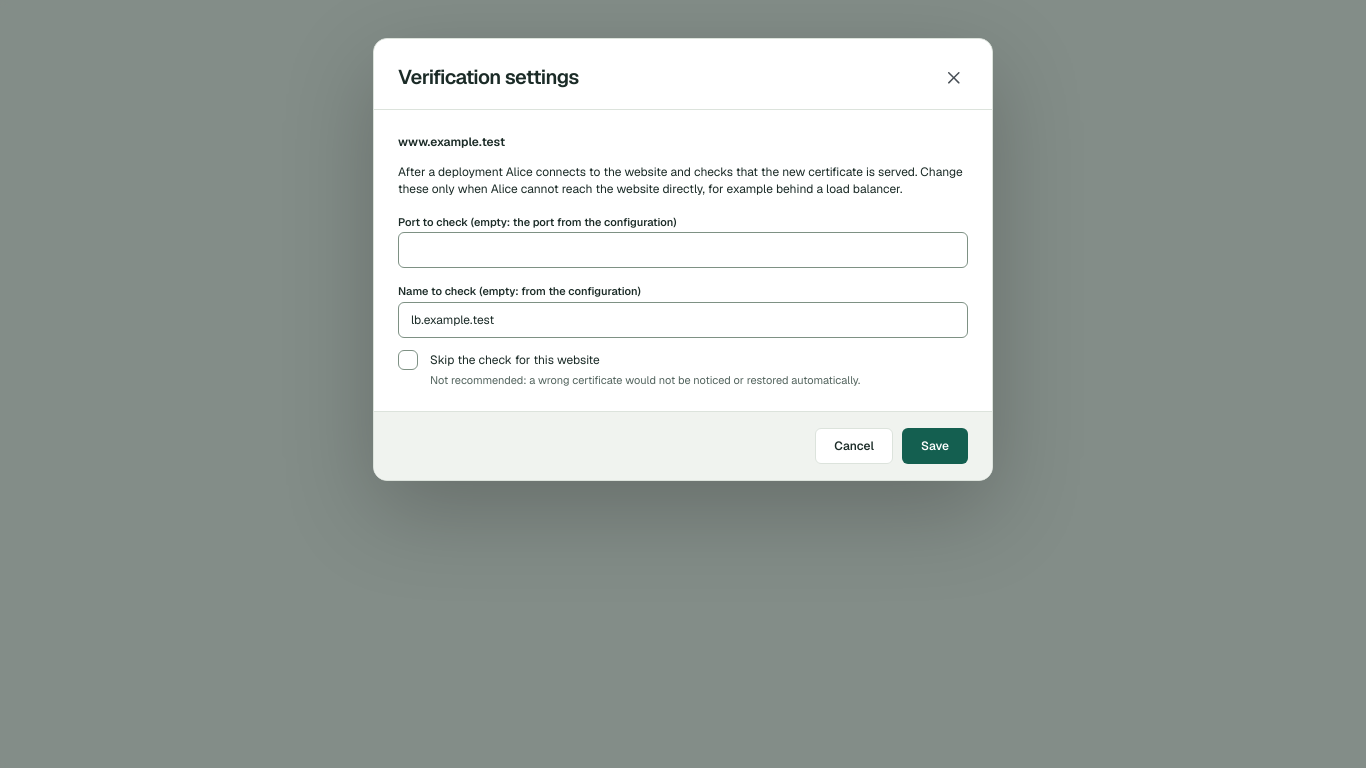
Scenario: LocationSettingsDialog › treats a name that differs from the stored one only in case as unchanged
The width and height of the screenshot is (1366, 768).
Replace the text in the field labelled "Name to check (empty: from the configuration)" with "LB.Example.test" at point(683, 320), box top-left (398, 302), bottom-right (968, 338)
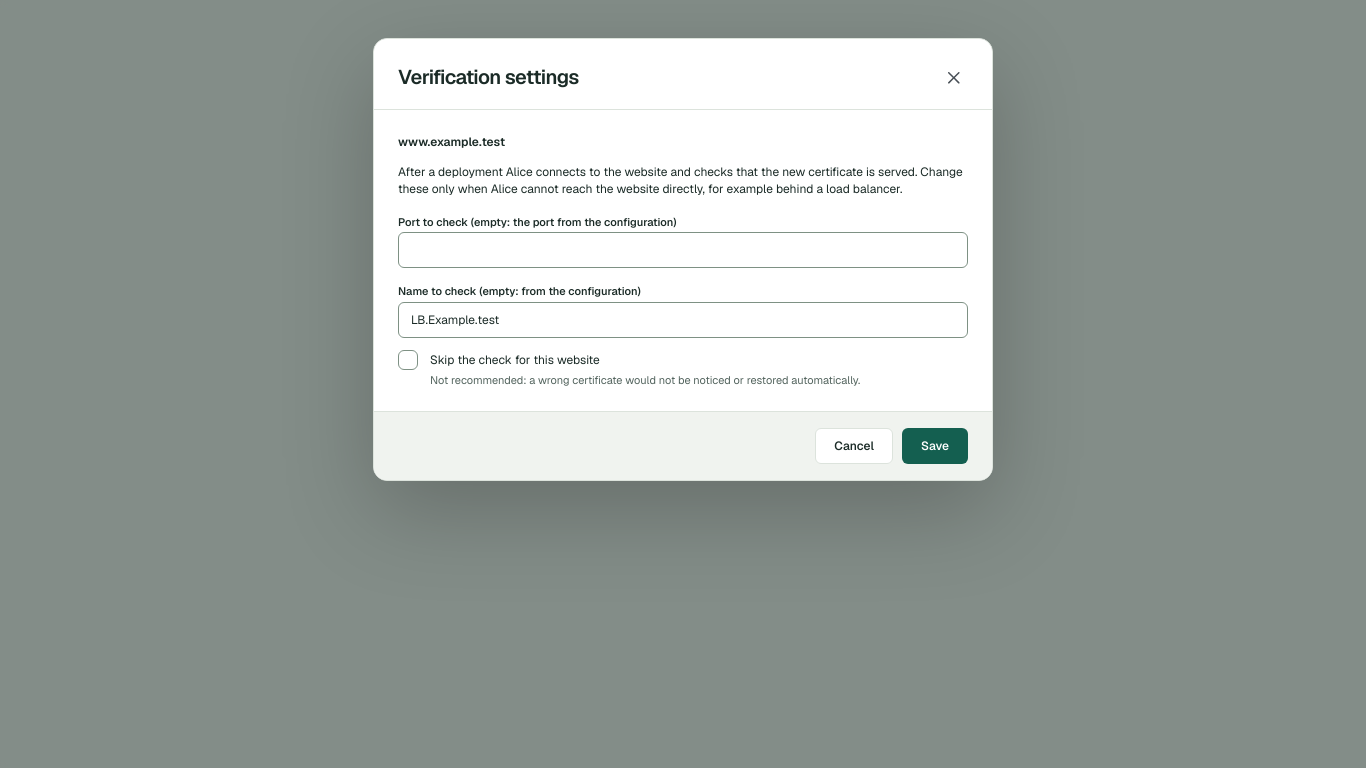
Click the button "Save" at point(935, 446), box top-left (902, 428), bottom-right (968, 464)
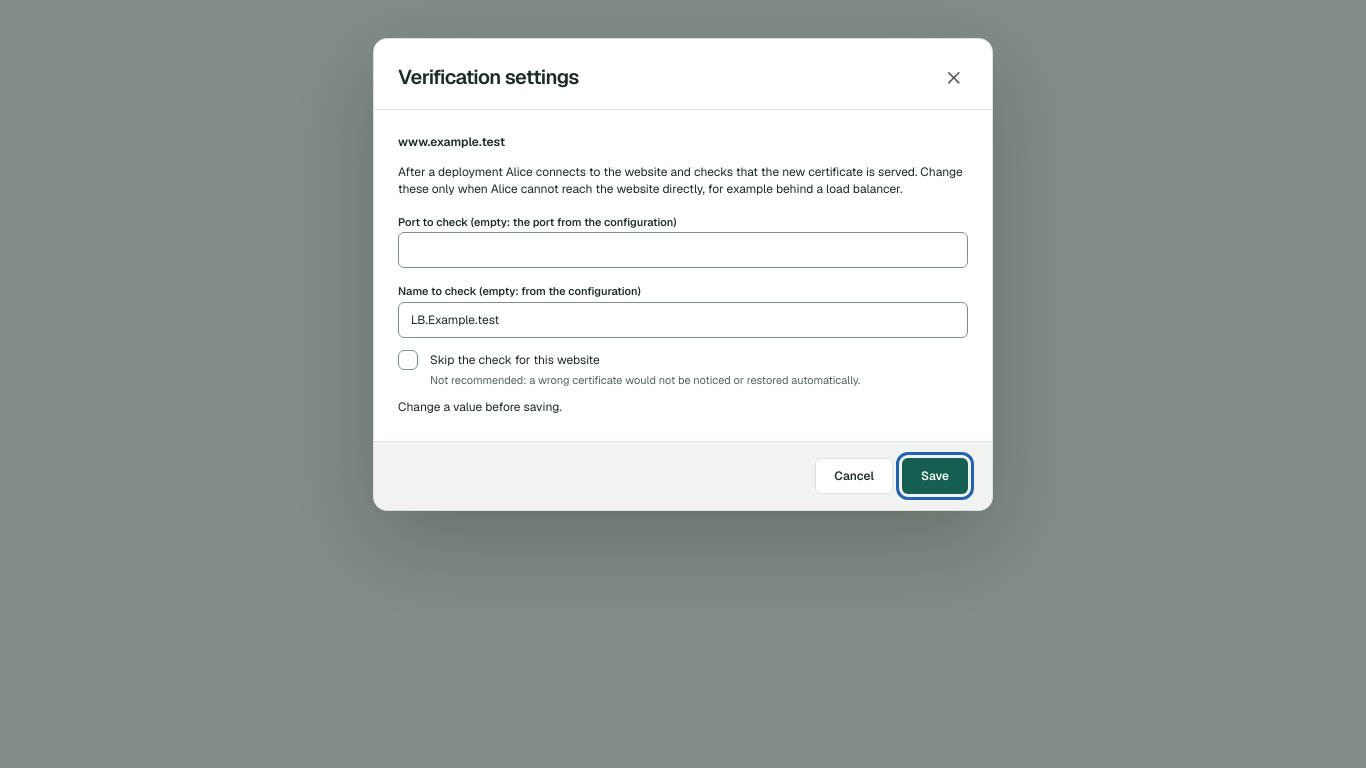
Check: the text "Change a value before saving." is shown, box top-left (398, 399), bottom-right (562, 415)
